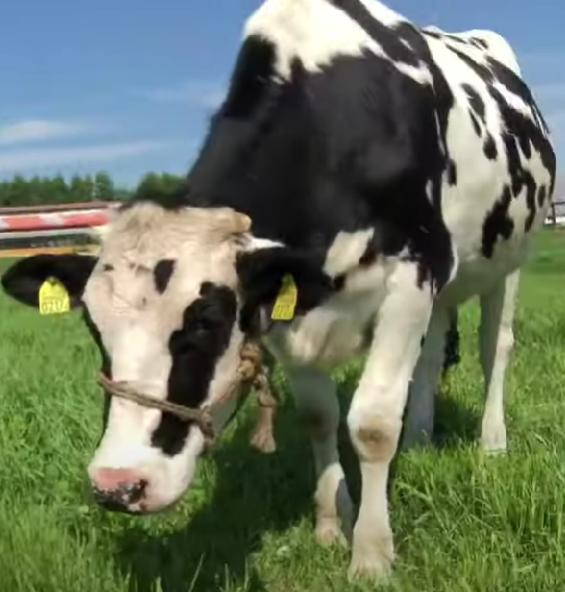cow: (78, 27, 556, 585)
